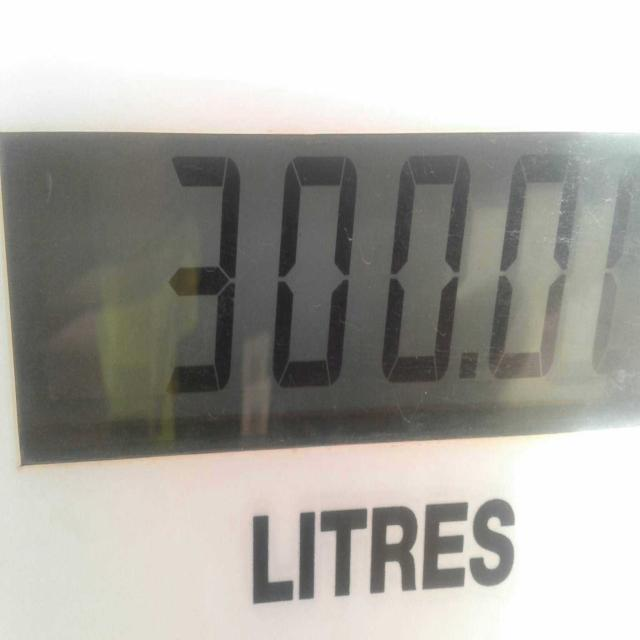.: (450, 332, 485, 404)
0: (266, 143, 364, 411), (374, 143, 472, 398), (490, 144, 584, 406)
3: (158, 140, 251, 418)
